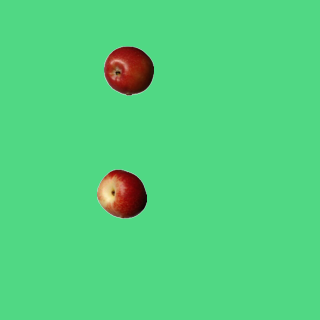Apple Braeburn: (103, 45, 153, 95)
Nectarine: (96, 168, 146, 218)
